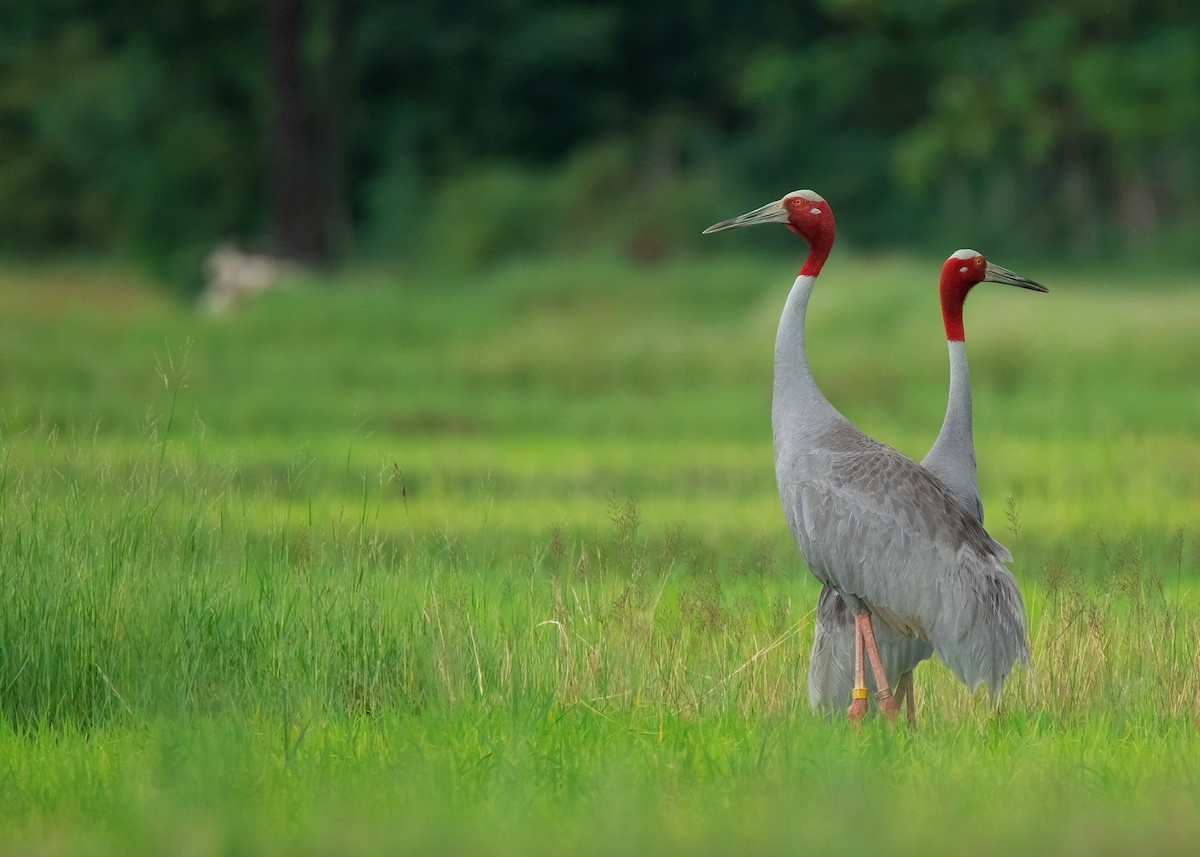crane: (685, 183, 942, 744), (821, 235, 1060, 748)
